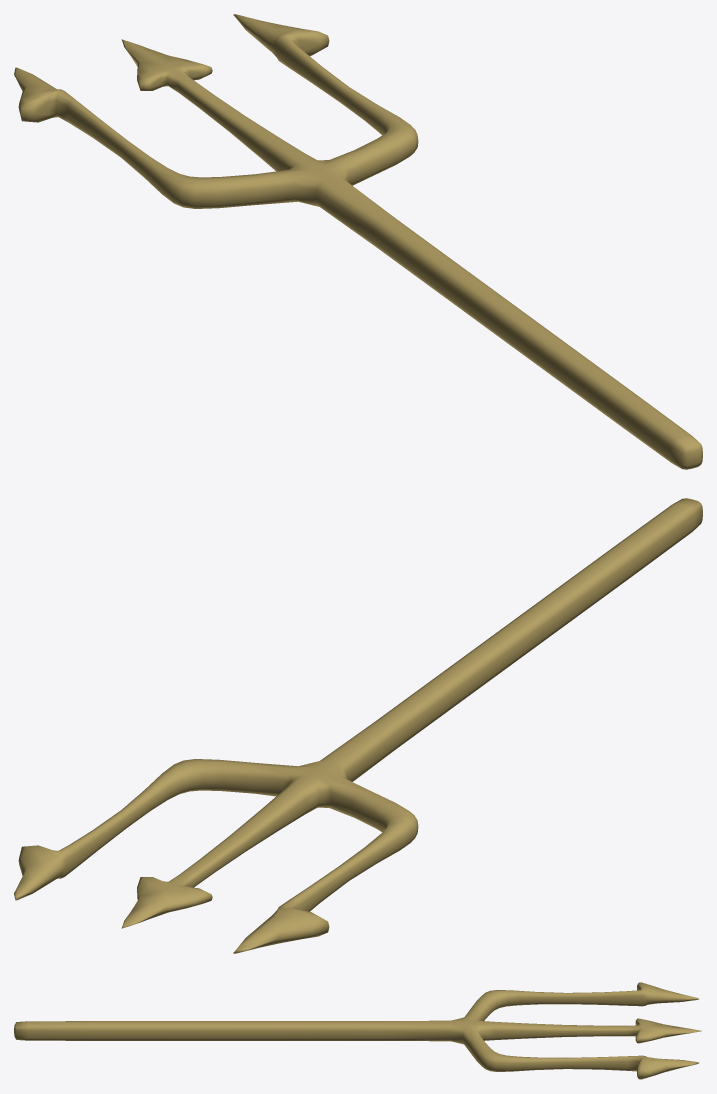
Rendered from Tridente.fbx.
3 views of the same model, one above another, from view 1: azimuth 30°, elevation 25°; view 2: azimuth 150°, elevation 25°; view 3: azimuth 270°, elevation 25° (orthographic). The views are drawn at different scales.
Visible parts, largest first — view 1: Cube.023; view 2: Cube.023; view 3: Cube.023.
Part boxes in pixels (bbox=[...]): Cube.023: bbox=[14, 14, 702, 469]; Cube.023: bbox=[14, 498, 702, 953]; Cube.023: bbox=[14, 982, 701, 1079].
Size of the model in its own units: 75.3 by 6.37 by 242.
